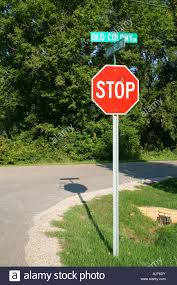Stop: (95, 59, 141, 123)
